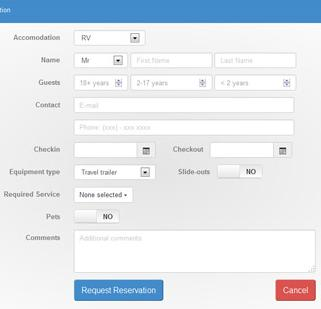button: (73, 278, 166, 302), (274, 279, 316, 302)
field: (73, 230, 316, 273), (73, 119, 295, 138), (71, 97, 296, 114), (130, 73, 212, 92), (129, 51, 214, 69), (213, 74, 297, 91), (72, 164, 156, 180), (72, 140, 139, 160), (214, 52, 297, 68), (73, 29, 146, 47), (208, 141, 274, 158), (72, 186, 135, 203), (73, 74, 128, 91), (72, 52, 129, 68)
field_with_label: (27, 229, 319, 274), (34, 96, 298, 115), (14, 27, 148, 49), (9, 163, 158, 182), (3, 185, 138, 205), (33, 139, 141, 161), (173, 139, 276, 159), (38, 73, 130, 93), (43, 51, 130, 69)
